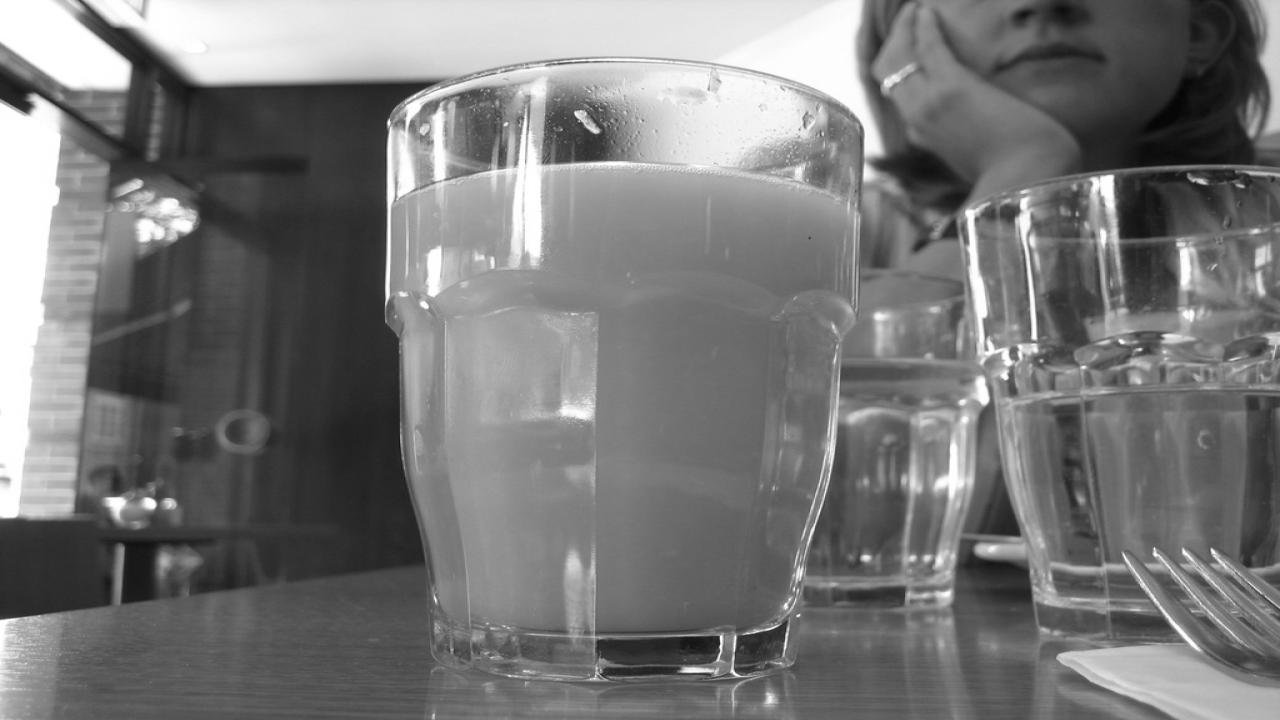fork: (1112, 536, 1280, 690)
